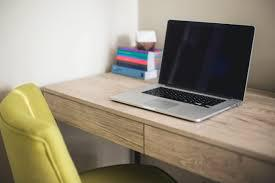desk: (33, 48, 271, 175)
